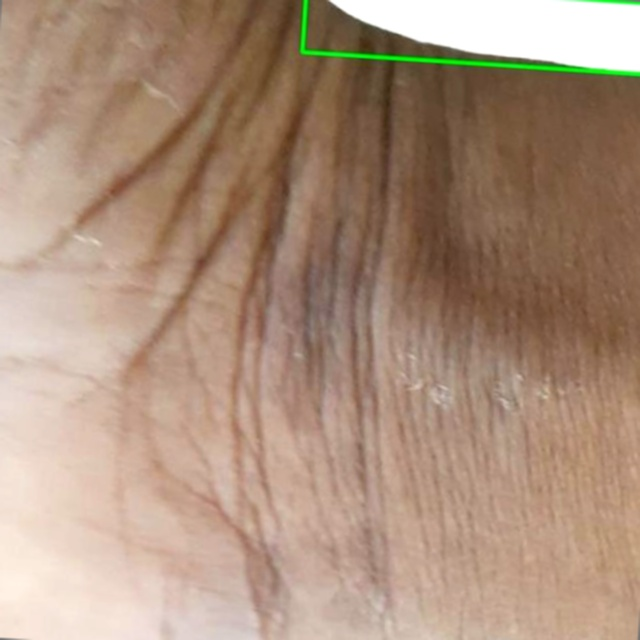Scabies: (302, 0, 639, 74)
